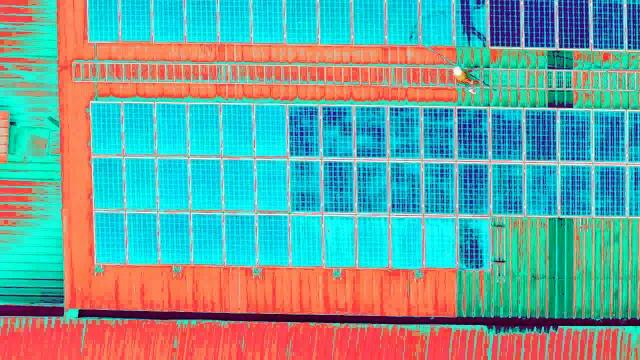clean: (591, 1, 623, 49), (491, 1, 523, 47), (557, 1, 589, 47), (523, 1, 555, 46)
dirty: (288, 104, 323, 162), (323, 105, 358, 163), (357, 104, 392, 162), (391, 105, 426, 163), (422, 106, 457, 164), (455, 105, 490, 163), (487, 105, 522, 163), (525, 104, 560, 162), (552, 104, 587, 162), (591, 109, 626, 167), (90, 102, 125, 159), (123, 100, 158, 157), (154, 102, 189, 159), (187, 100, 222, 157), (223, 102, 258, 159), (254, 104, 289, 161), (254, 161, 289, 218), (221, 158, 256, 215), (187, 158, 222, 215), (155, 155, 190, 212), (120, 157, 155, 214), (90, 158, 125, 215), (91, 212, 126, 269), (125, 211, 160, 268), (157, 211, 192, 268), (190, 212, 225, 269), (224, 214, 259, 271), (255, 214, 290, 271), (288, 217, 323, 274), (320, 216, 355, 273), (355, 215, 390, 272), (387, 217, 422, 274), (592, 164, 627, 221), (554, 162, 589, 219), (524, 160, 559, 217), (492, 159, 527, 216), (455, 215, 490, 272), (456, 159, 491, 216), (414, 158, 449, 215), (390, 159, 425, 216), (354, 159, 389, 216), (321, 157, 356, 214), (291, 155, 326, 212), (120, 2, 152, 44), (150, 2, 182, 44), (389, 1, 421, 43), (185, 1, 217, 42), (219, 1, 251, 42), (257, 1, 289, 42), (284, 1, 316, 42), (323, 1, 355, 42), (356, 1, 388, 42), (426, 1, 458, 42), (455, 1, 487, 42), (88, 3, 117, 40)
